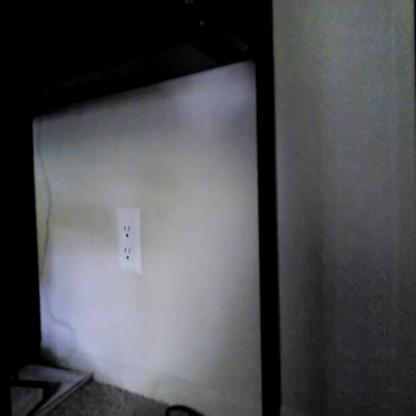OUTLET: (116, 206, 143, 272)
